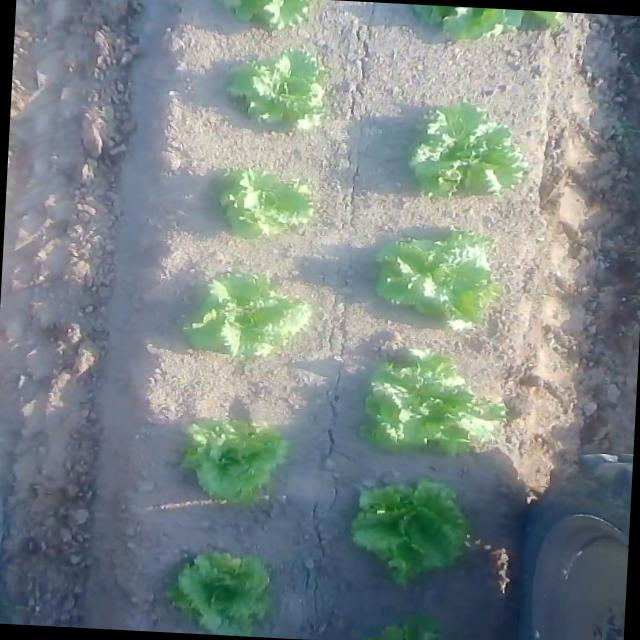Lettuce-Ready-to-Harvest: (317, 481, 483, 582), (386, 99, 532, 204), (186, 260, 304, 362)
